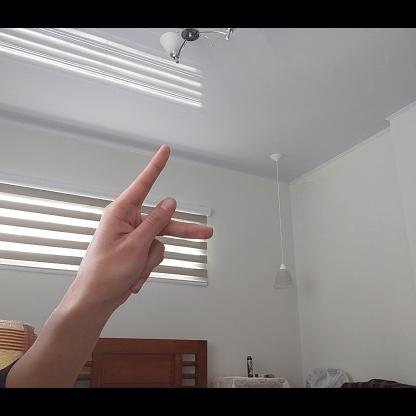K: (77, 142, 216, 314)
